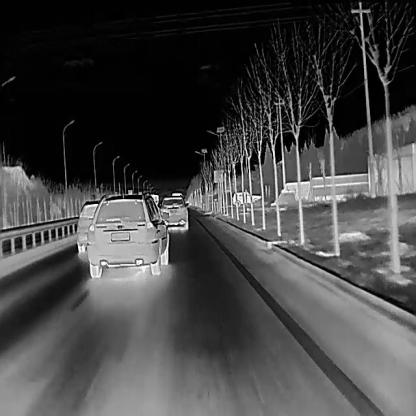car: (84, 192, 168, 278), (75, 198, 108, 259), (155, 195, 188, 230), (231, 190, 262, 206)
